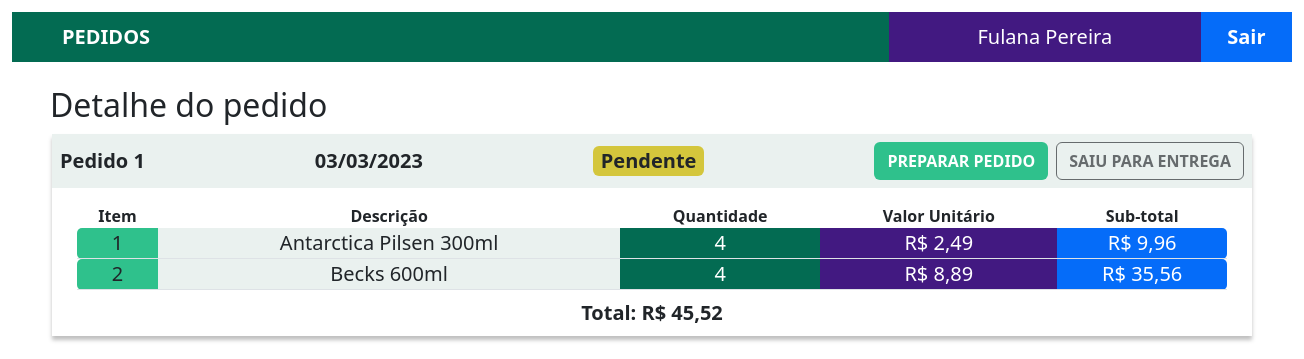
testando páginas Orders › Testa se é possivel alterar status do pedido como seller
Expected: the button "SAIU PARA ENTREGA" is disabled, [1056,142,1244,180]
Click the button "PREPARAR PEDIDO" at (961, 161), box [874,142,1048,180]
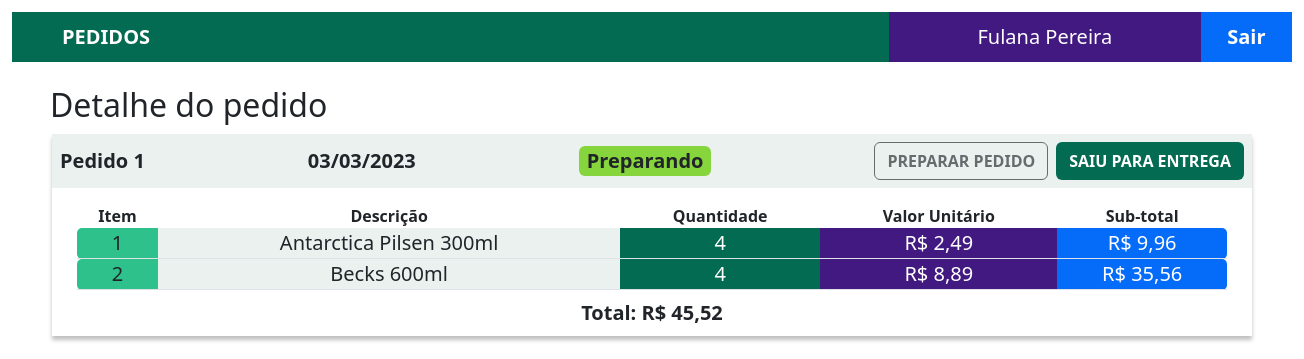
Now the button "PREPARAR PEDIDO" is disabled, box [874,142,1048,180]
Now the button "SAIU PARA ENTREGA" is enabled
Click the button "SAIU PARA ENTREGA" at (1150, 161), box [1056,142,1244,180]
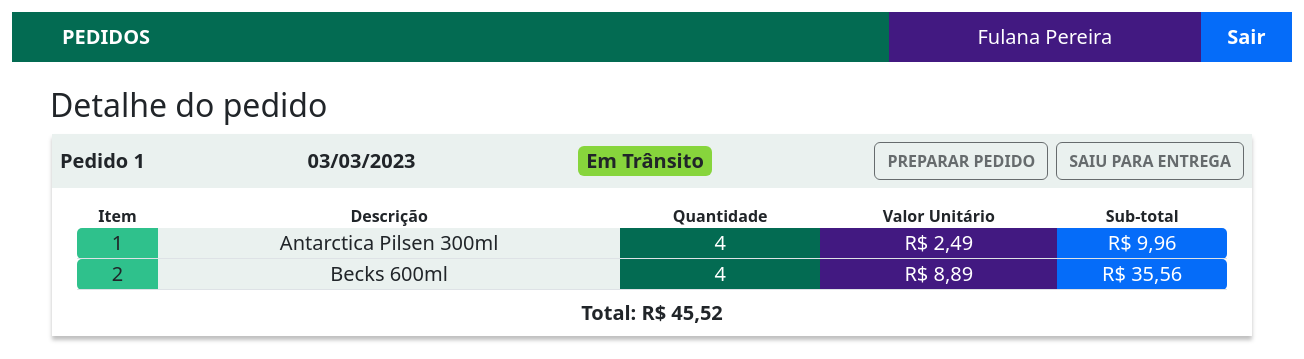
Now the button "PREPARAR PEDIDO" is disabled, box [874,142,1048,180]
Now the button "SAIU PARA ENTREGA" is disabled, box [1056,142,1244,180]
